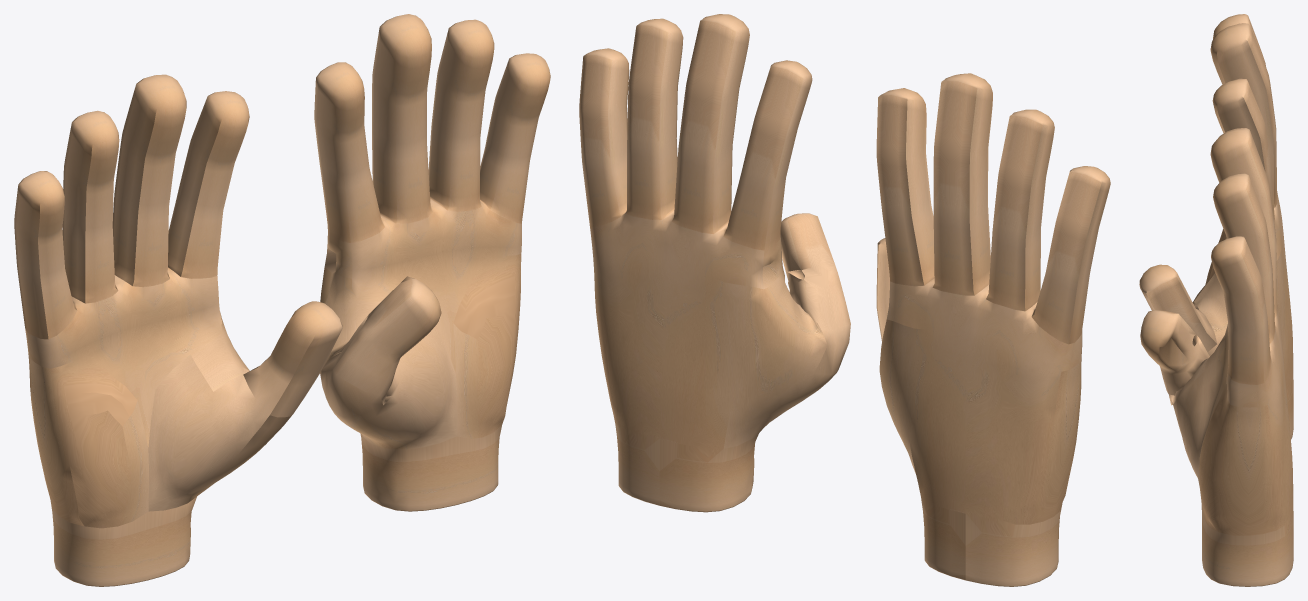
The model's file is manonueve9.fbx.
3 renders of one model, left to right at view 1: azimuth 30°, elevation 25°; view 2: azimuth 150°, elevation 25°; view 3: azimuth 270°, elevation 25°, orthographic. The views are drawn at different scales.
Parts seen in each view (by area): view 1: uploads_files_810024_Hand.001; view 2: uploads_files_810024_Hand.001; view 3: uploads_files_810024_Hand.001.
Boxes of the visible parts, box(x1,y1,x2,y2) form: uploads_files_810024_Hand.001: box(14, 14, 550, 586); uploads_files_810024_Hand.001: box(579, 14, 1110, 586); uploads_files_810024_Hand.001: box(1139, 14, 1293, 586).
Bounding box in the file's own units: 3.25 × 2.83 × 0.946.
Materials: 2 (2 with a texture image).
